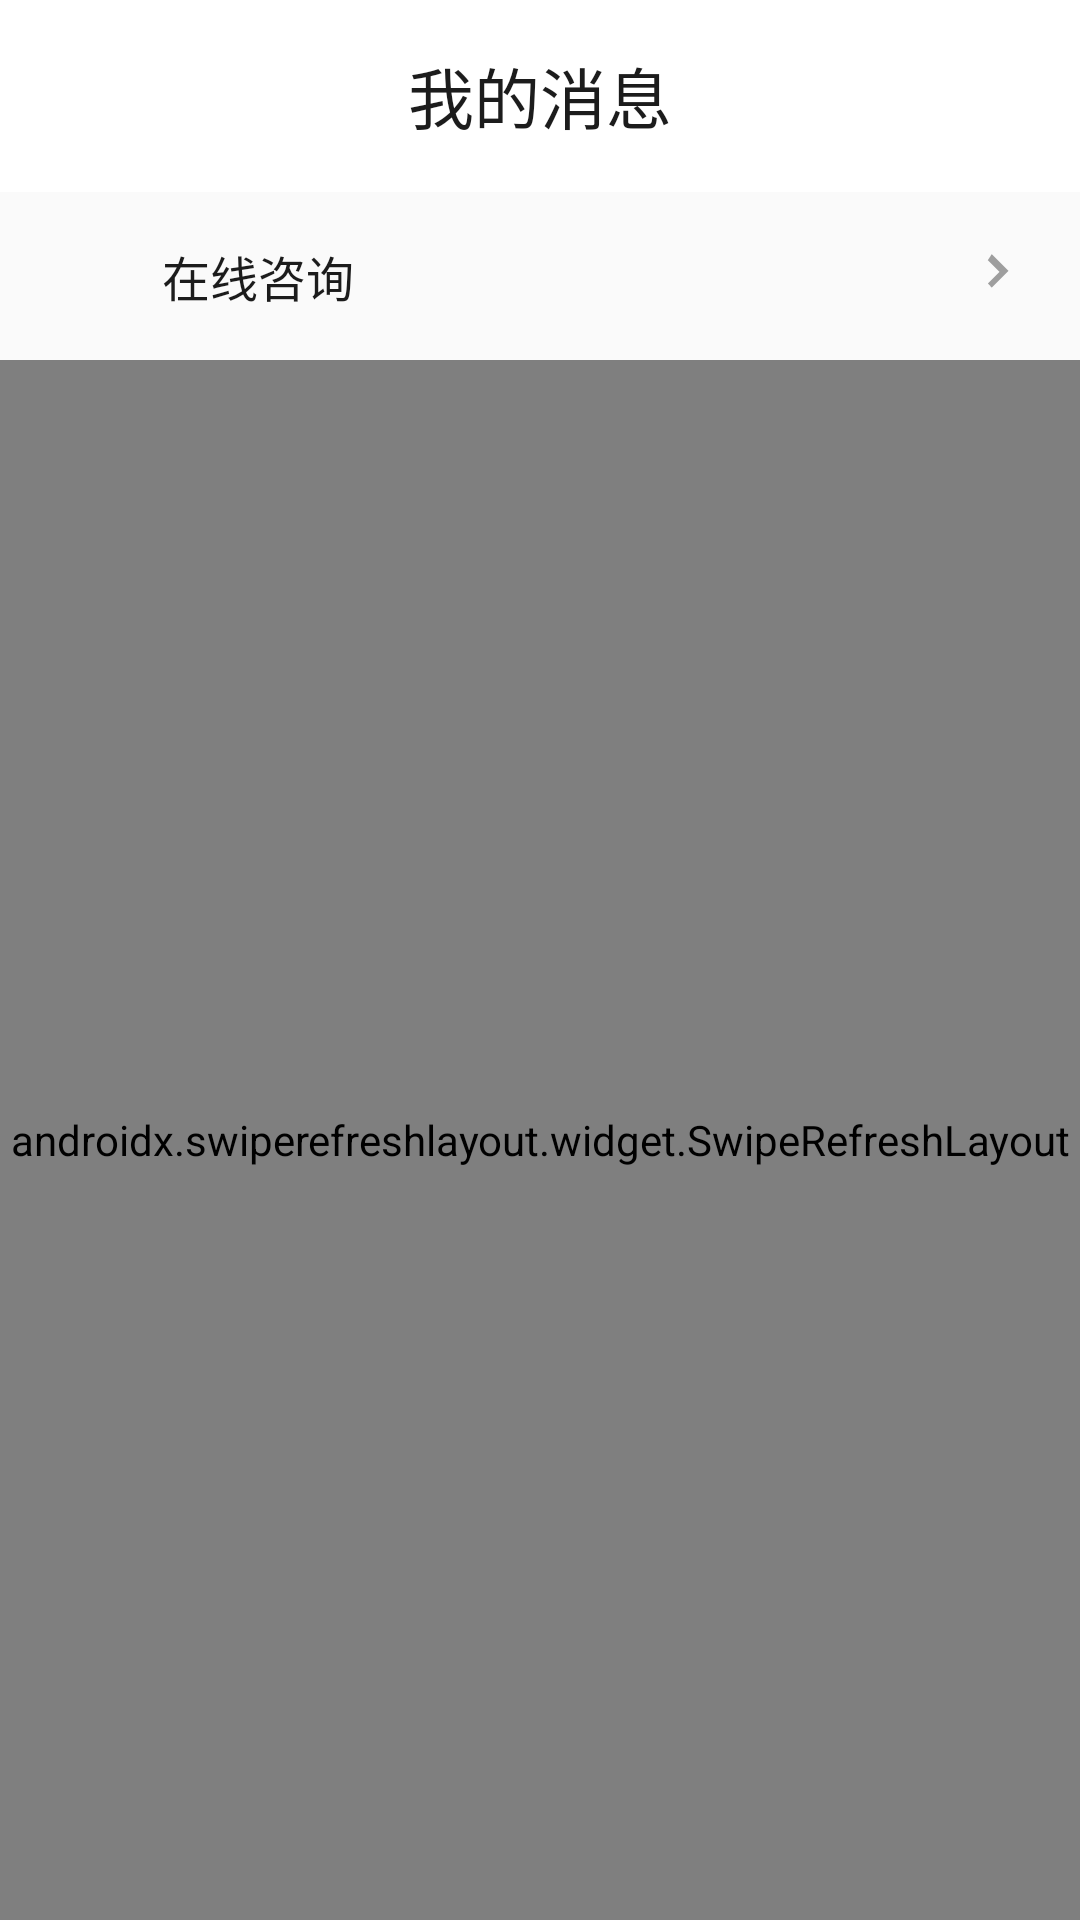

Screen size 1080 x 1920. Icon name, then its box in pixels as [left=x1, top=y1, right=x2, bottom=y2]:
进入: [left=988, top=254, right=1008, bottom=288]
